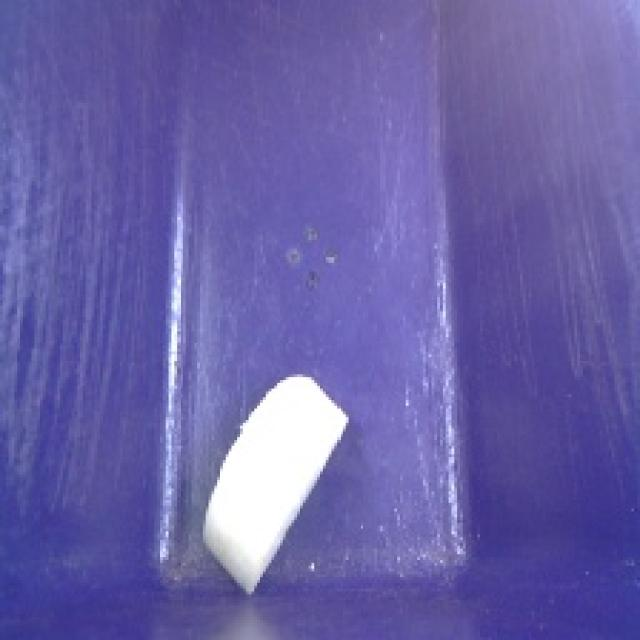white_radish: (191, 366, 372, 602)
